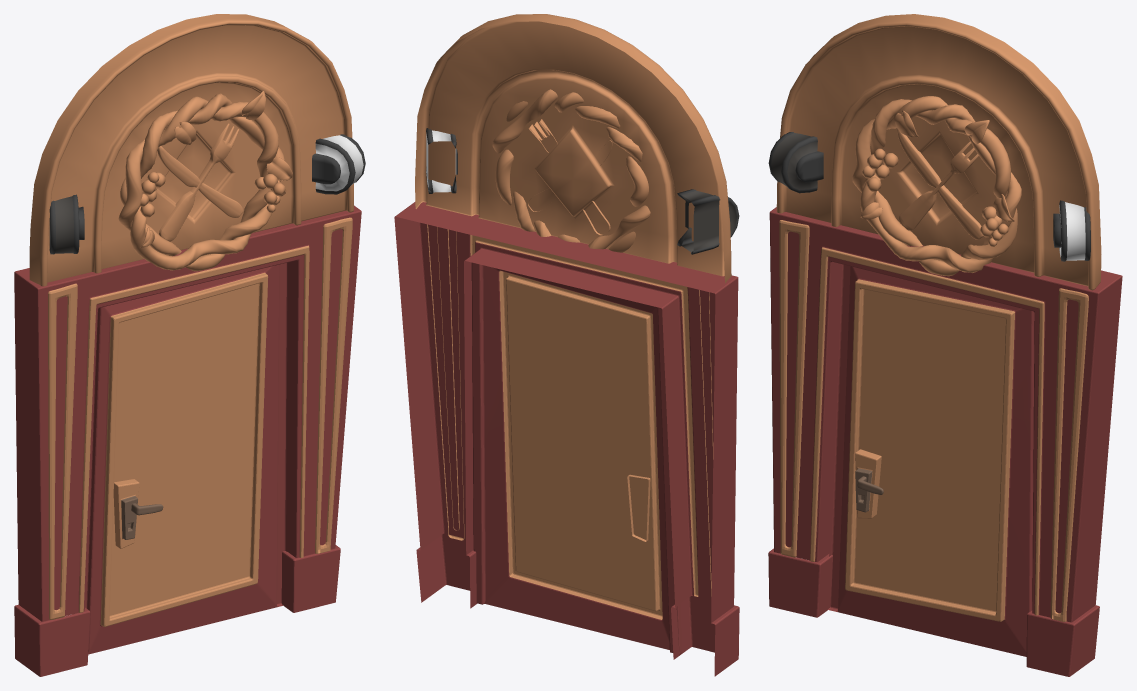
Rendered from luigi_dinerDoor.fbx.
3 renders of one model, left to right at view 1: azimuth 30°, elevation 25°; view 2: azimuth 150°, elevation 25°; view 3: azimuth 330°, elevation 25°, orthographic. The views are drawn at different scales.
Visible parts, largest first — view 1: dinerDoor; view 2: dinerDoor; view 3: dinerDoor.
Part boxes in pixels (x1,y1,x2,y2): dinerDoor: (14, 14, 365, 676); dinerDoor: (394, 14, 739, 676); dinerDoor: (768, 14, 1122, 676).
Size of the model in its own units: 297 by 534 by 60.01.
